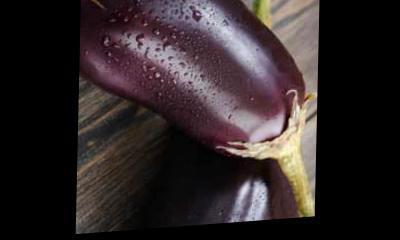eggplant: (86, 0, 320, 234)
